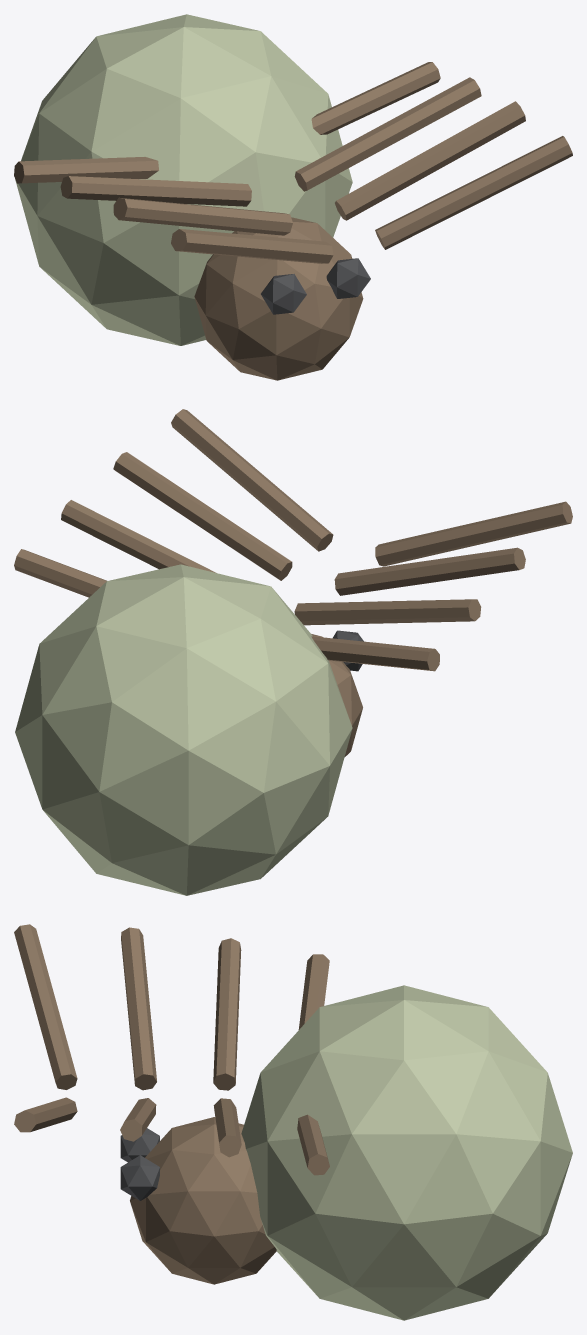
The model's file is argiope-catenulata.glb.
3 views of the same model, one above another, from view 1: azimuth 30°, elevation 25°; view 2: azimuth 150°, elevation 25°; view 3: azimuth 270°, elevation 25° (orthographic).
Visible parts, largest first — view 1: abdomen, cephalothorax, leg01, leg11, leg21, leg2-1, leg1-1, leg0-1, leg31, leg3-1, eye-1, eye1; view 2: abdomen, leg11, leg0-1, leg01, leg1-1, leg2-1, leg21, leg3-1, leg31, cephalothorax; view 3: abdomen, cephalothorax, leg0-1, leg1-1, leg2-1, leg3-1, leg01, eye1, leg31, leg21, leg11, eye-1.
Part boxes in pixels (<box>): abdomen: <box>15,14,352,345</box>; cephalothorax: <box>194,217,363,380</box>; leg01: <box>375,136,572,249</box>; leg11: <box>335,101,525,220</box>; leg21: <box>294,77,481,191</box>; leg2-1: <box>60,176,251,206</box>; leg1-1: <box>113,197,292,235</box>; leg0-1: <box>171,229,333,263</box>; leg31: <box>311,62,440,134</box>; leg3-1: <box>14,157,158,183</box>; eye-1: <box>261,274,306,314</box>; eye1: <box>326,258,370,298</box>; abdomen: <box>15,564,352,895</box>; leg11: <box>113,452,292,580</box>; leg0-1: <box>375,501,572,566</box>; leg01: <box>171,409,333,551</box>; leg1-1: <box>334,547,525,595</box>; leg2-1: <box>294,599,481,625</box>; leg21: <box>61,500,215,572</box>; leg3-1: <box>311,636,439,671</box>; leg31: <box>14,549,106,597</box>; cephalothorax: <box>311,634,362,756</box>; abdomen: <box>241,985,572,1320</box>; cephalothorax: <box>130,1117,276,1284</box>; leg0-1: <box>14,924,77,1089</box>; leg1-1: <box>121,927,156,1090</box>; leg2-1: <box>213,938,241,1090</box>; leg3-1: <box>298,954,329,1029</box>; leg01: <box>14,1097,77,1132</box>; eye1: <box>120,1155,159,1200</box>; leg31: <box>297,1114,329,1175</box>; leg21: <box>213,1098,241,1157</box>; leg11: <box>120,1098,156,1141</box>; eye-1: <box>120,1128,159,1162</box>.
Size of the model in its own units: 0.4572 by 0.32 by 0.5297.
